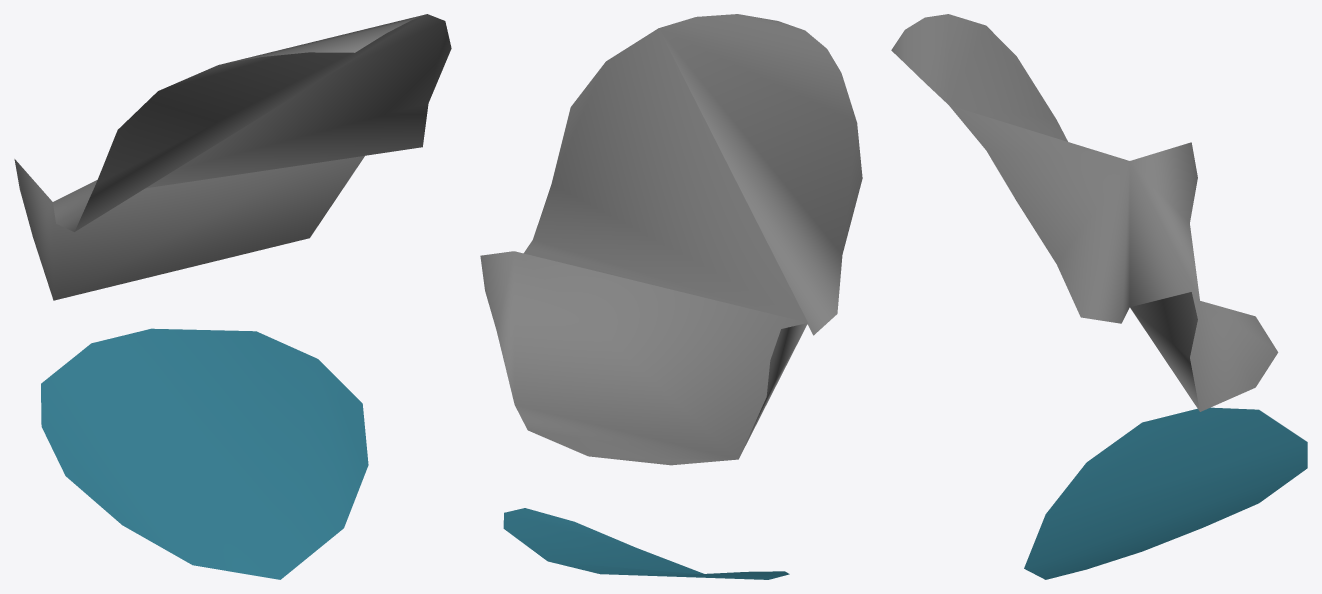
File: ma_hom_visage_interface.max.fobj.obj
The picture shows the model from 3 angles, left to right: view 1: azimuth 30°, elevation 25°; view 2: azimuth 150°, elevation 25°; view 3: azimuth 270°, elevation 25°; orthographic projection. The views are drawn at different scales.
Visible parts, largest first — view 1: Shape01, FY_HOM_interfaces_new; view 2: Shape01, FY_HOM_interfaces_new; view 3: Shape01, FY_HOM_interfaces_new.
Part boxes in pixels (box(x1,y1,x2,y2)): Shape01: box(14, 14, 451, 300); FY_HOM_interfaces_new: box(41, 328, 368, 579); Shape01: box(480, 14, 862, 465); FY_HOM_interfaces_new: box(503, 508, 789, 579); Shape01: box(891, 14, 1278, 411); FY_HOM_interfaces_new: box(1024, 407, 1307, 579).
Size of the model in its own units: 14.33 by 23.03 by 16.65.
